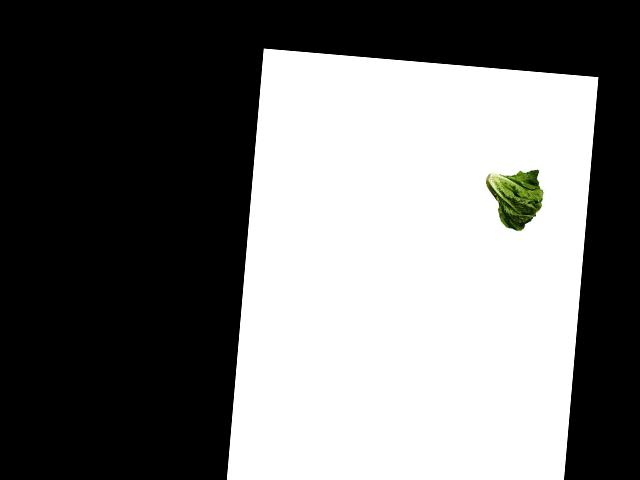lettuce: (478, 164, 547, 233)
